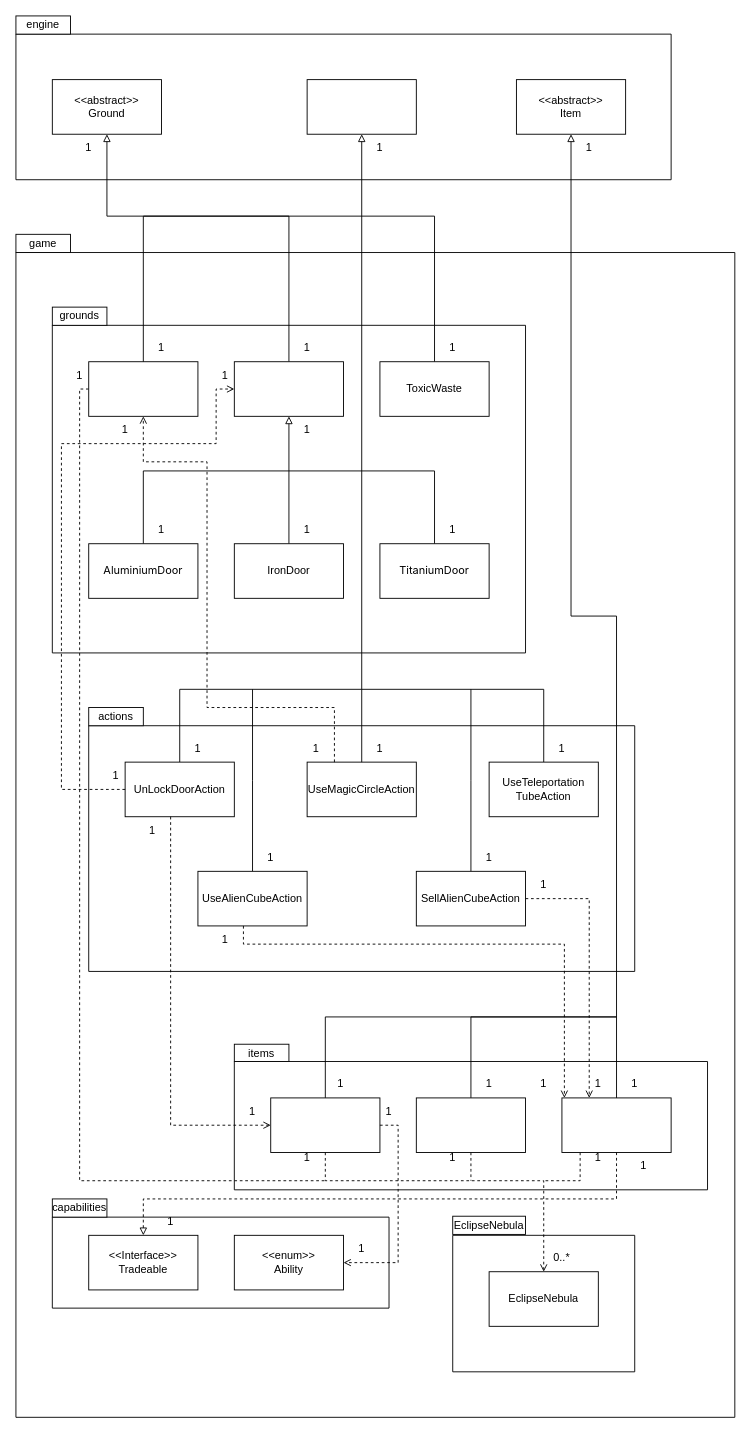
Image size: 751x1433. Some labels were removed from this diagram. The shapes that lost their labels are listed below. From the top down, each one's centre as x and y in pixels, then its label:
At pixel 361 106: "<<abstract>> Action".
At pixel 143 388: "MagicCircle".
At pixel 288 388: "<<abstract>> SecureDoor".
At pixel 325 1125: "AccessCard".
At pixel 470 1125: "TeleportationTube".
At pixel 616 1125: "AlienCube".
